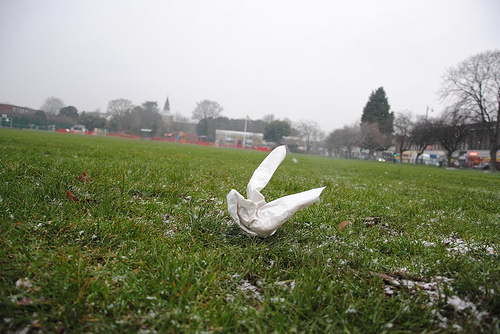litter: (228, 144, 326, 238)
